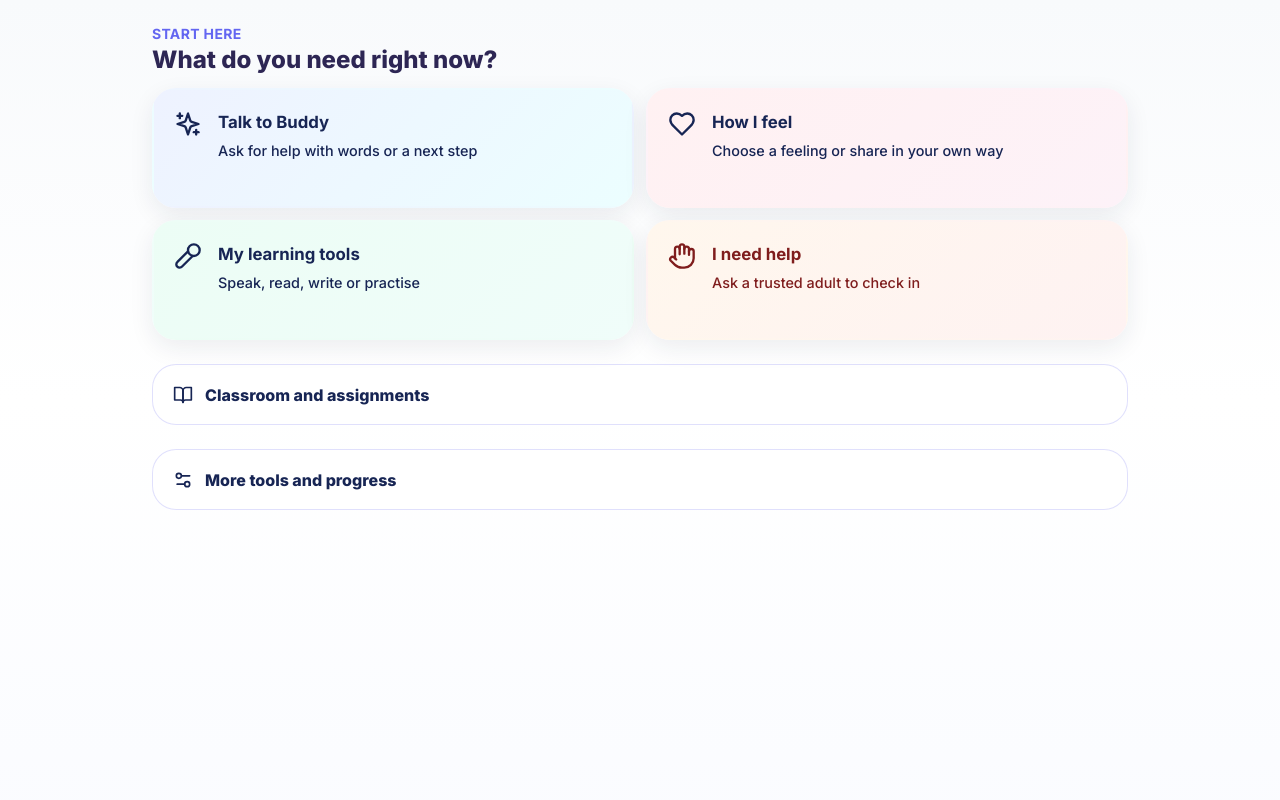
Test: records the real Helpful Phrase Cards dashboard flow with measured time and minimal metadata
This screenshot has width=1280, height=800.
Click the heading "More tools and progress": click(285, 480) [173,470,396,490]
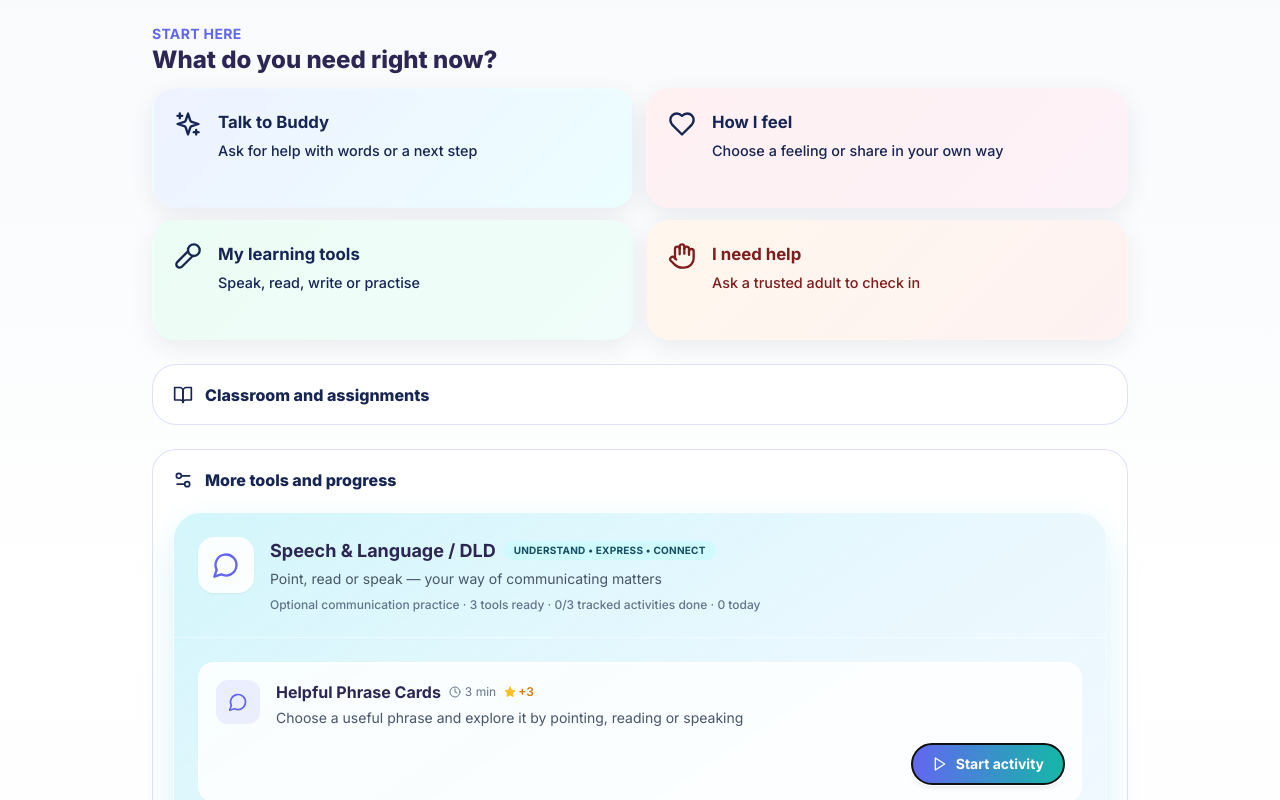
Click the button "Start activity": click(988, 764) [912,744,1064,784]
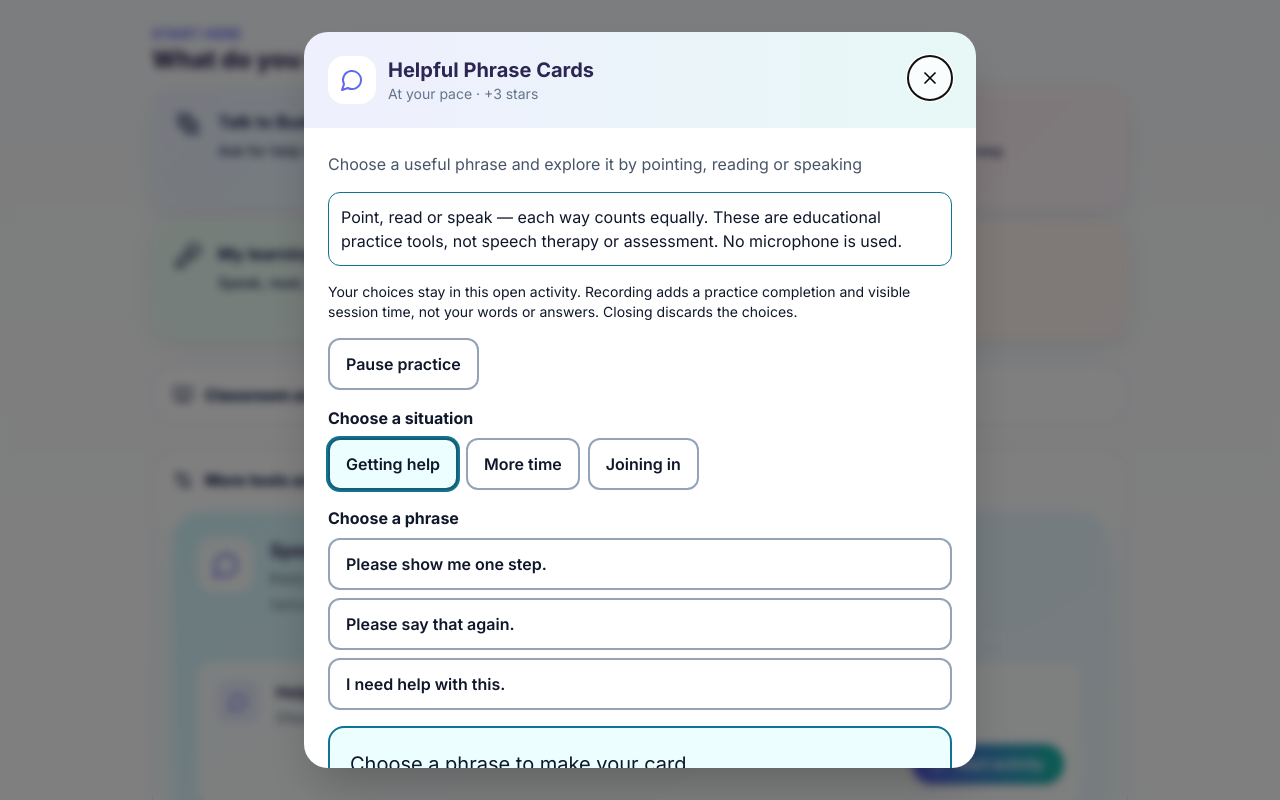
Now the dialog is shown, box [304,32,976,768]
Click the button "Please show me one step.": click(446, 564) [328,538,952,590]
(page scrolled)
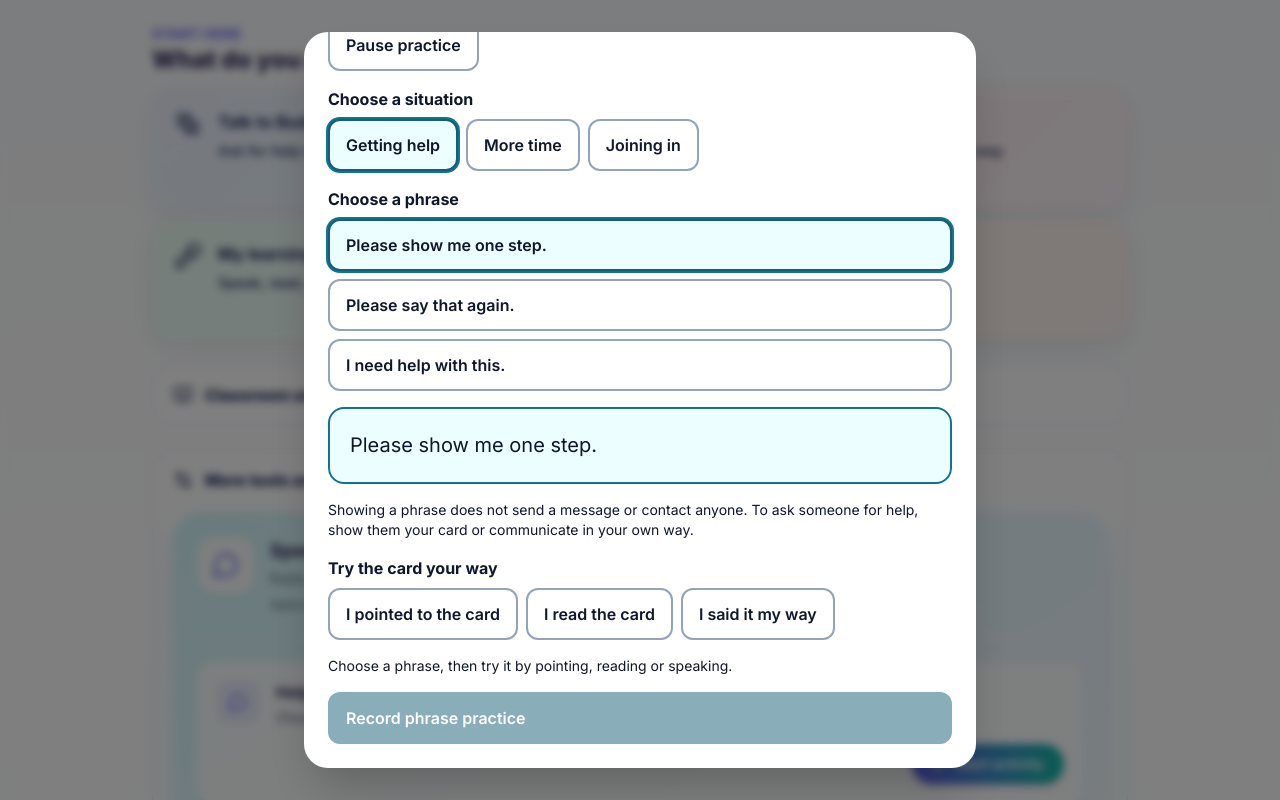
Click the button "I pointed to the card": click(423, 614) [328,588,518,640]
Wait 12000 ms
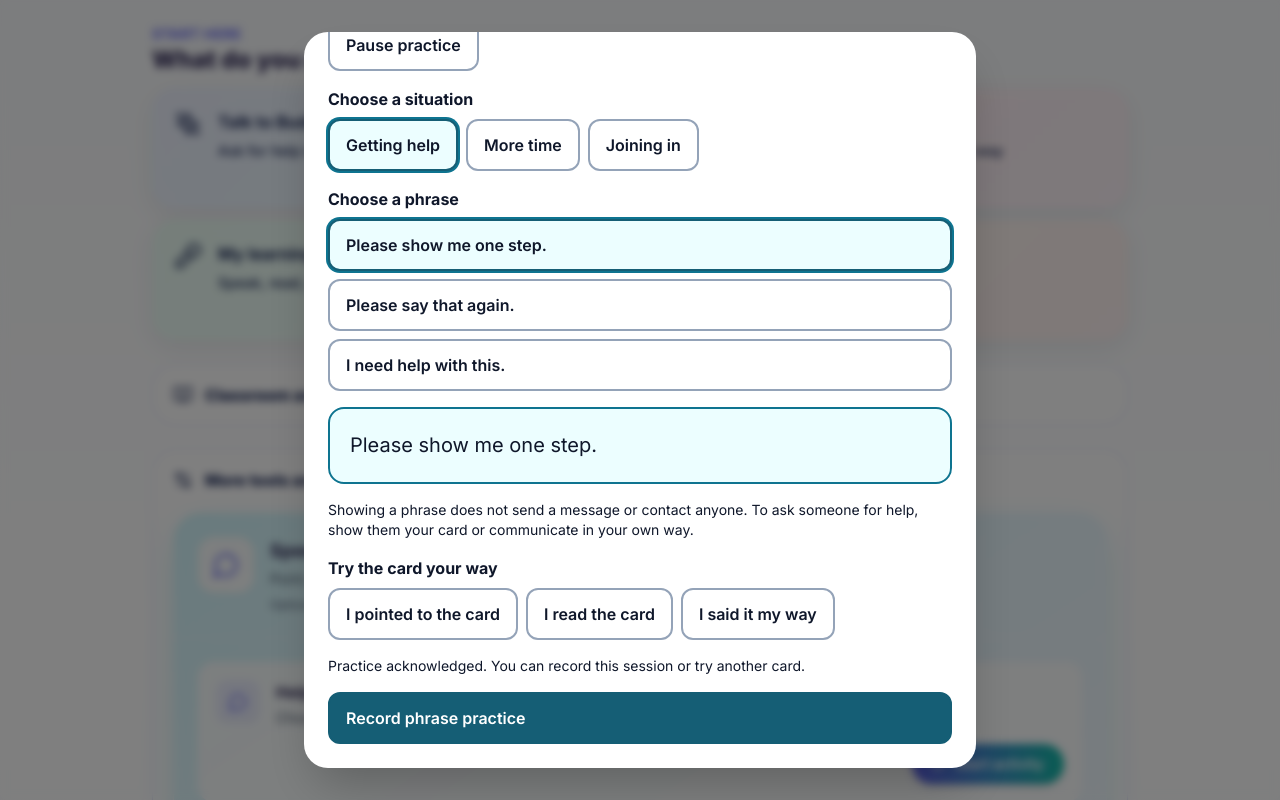
Click the button "Record phrase practice": click(436, 718) [328,692,952,744]
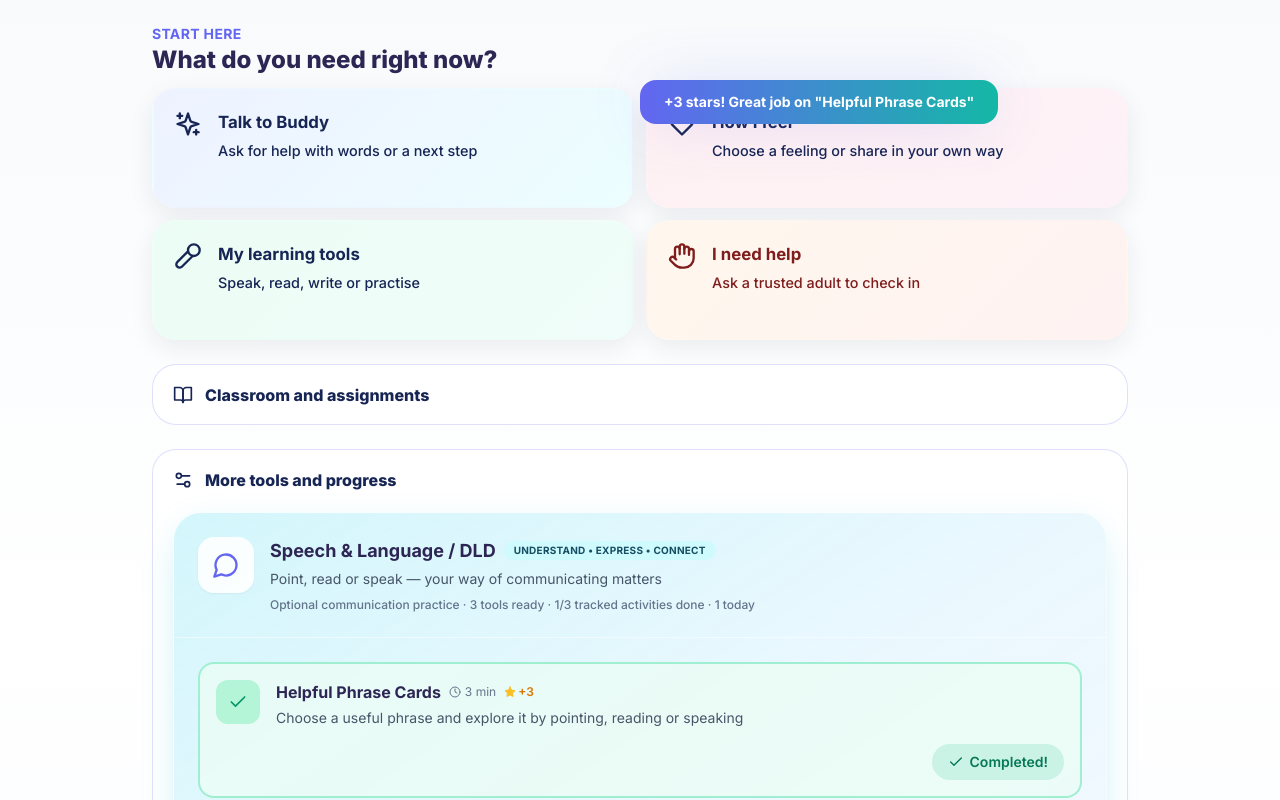
Now the dialog is gone
